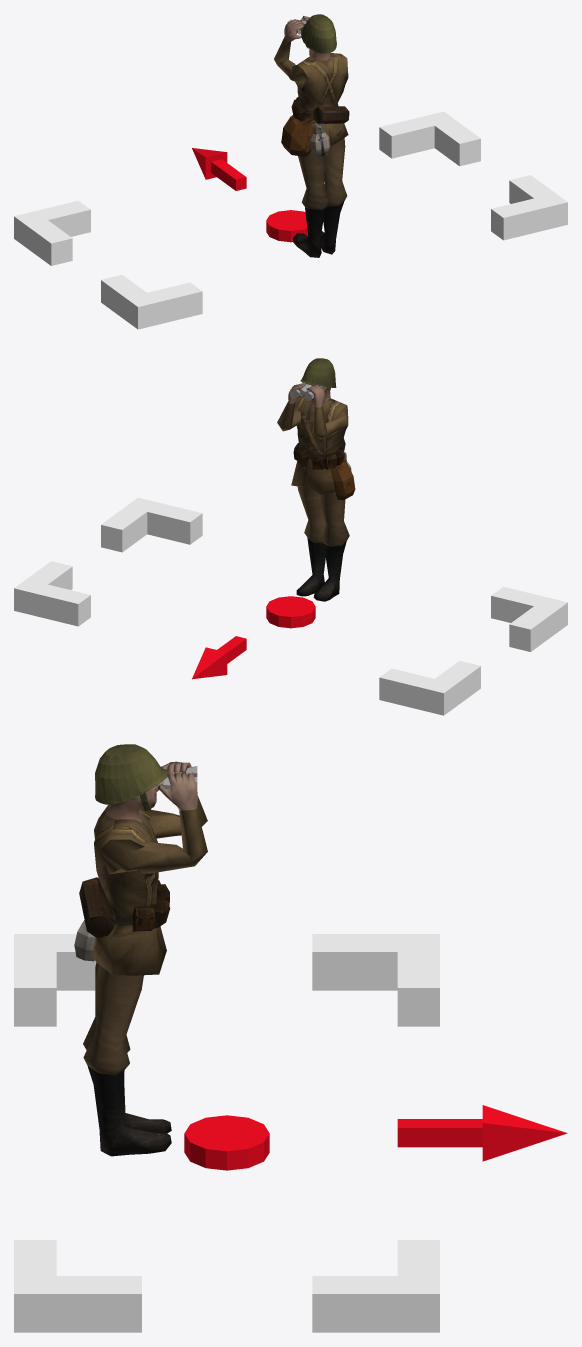
The model's file is cf_sov_fo1.obj.
The picture shows the model from 3 angles, top to bottom: view 1: azimuth 30°, elevation 25°; view 2: azimuth 150°, elevation 25°; view 3: azimuth 270°, elevation 25°; orthographic projection. The views are drawn at different scales.
Parts seen in each view (by area): view 1: i_frame_Cube.001, german_rigged, rigged_belt, arrow_Cube, cat_Mesh, pointer_Cylinder; view 2: i_frame_Cube.001, german_rigged, rigged_belt, pointer_Cylinder, arrow_Cube, cat_Mesh; view 3: i_frame_Cube.001, german_rigged, arrow_Cube, pointer_Cylinder, cat_Mesh, rigged_belt.
Part boxes in pixels (<box>): i_frame_Cube.001: <box>14,111,567,329</box>; german_rigged: <box>274,16,348,257</box>; rigged_belt: <box>281,97,349,156</box>; arrow_Cube: <box>192,148,246,190</box>; cat_Mesh: <box>301,14,336,53</box>; pointer_Cylinder: <box>266,210,308,242</box>; i_frame_Cube.001: <box>14,497,567,715</box>; german_rigged: <box>277,382,349,601</box>; rigged_belt: <box>293,438,355,500</box>; pointer_Cylinder: <box>266,596,315,628</box>; arrow_Cube: <box>192,636,246,679</box>; cat_Mesh: <box>300,358,336,401</box>; i_frame_Cube.001: <box>14,934,439,1332</box>; german_rigged: <box>83,761,207,1156</box>; arrow_Cube: <box>397,1105,567,1161</box>; pointer_Cylinder: <box>184,1115,269,1170</box>; cat_Mesh: <box>95,744,169,810</box>; rigged_belt: <box>74,877,170,961</box>.
Size of the model in its own units: 4 by 2.1 by 2.6.
Materials: 3 (2 with a texture image).
